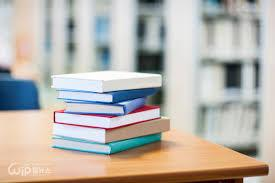book: (50, 70, 162, 92)
